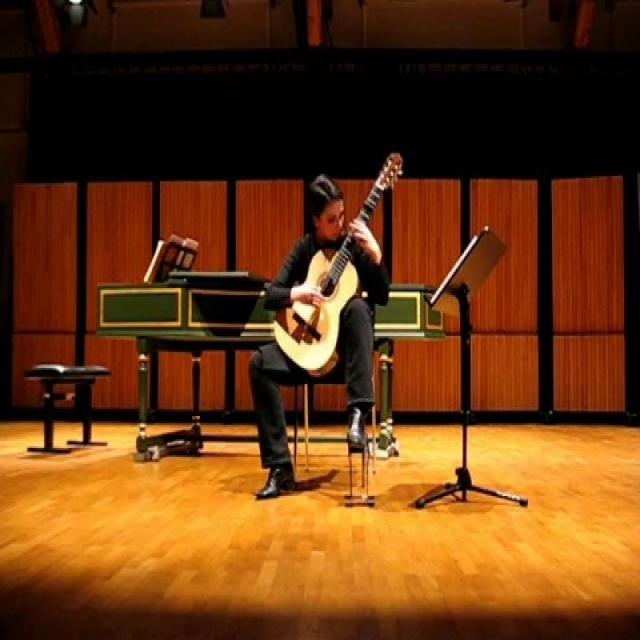Guitar: (264, 138, 412, 381)
